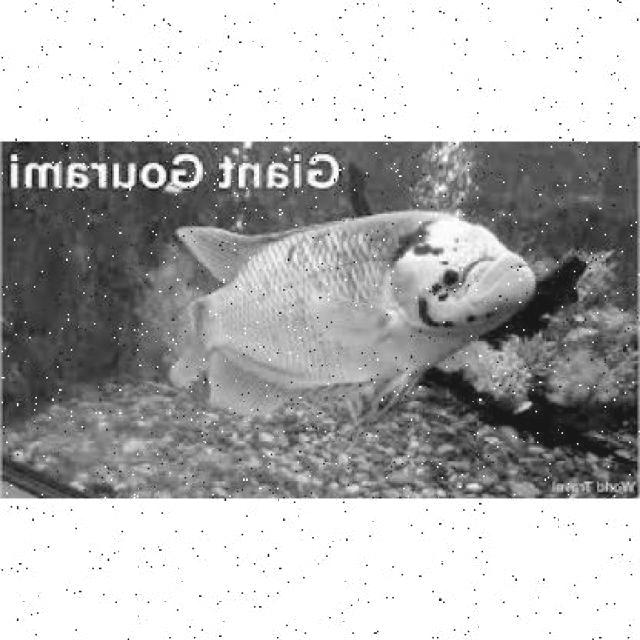gurame: (180, 210, 536, 421)
